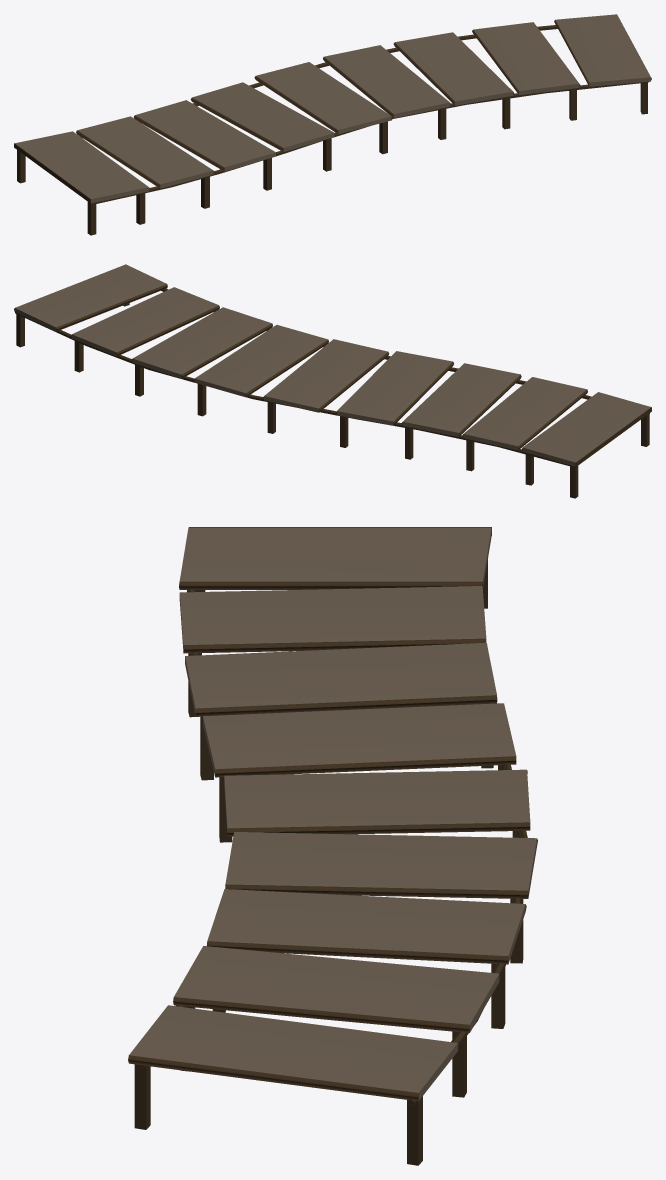
The model's file is dock1.obj.
3 renders of one model, top to bottom at view 1: azimuth 30°, elevation 25°; view 2: azimuth 150°, elevation 25°; view 3: azimuth 270°, elevation 25°, orthographic. The views are drawn at different scales.
Parts seen in each view (by area): view 1: dock1; view 2: dock1; view 3: dock1.
Boxes of the visible parts, x1,y1,x2,y2 form: dock1: [14, 14, 651, 235]; dock1: [14, 264, 651, 498]; dock1: [128, 527, 537, 1165].
Size of the model in its own units: 101 by 6.28 by 30.82.
